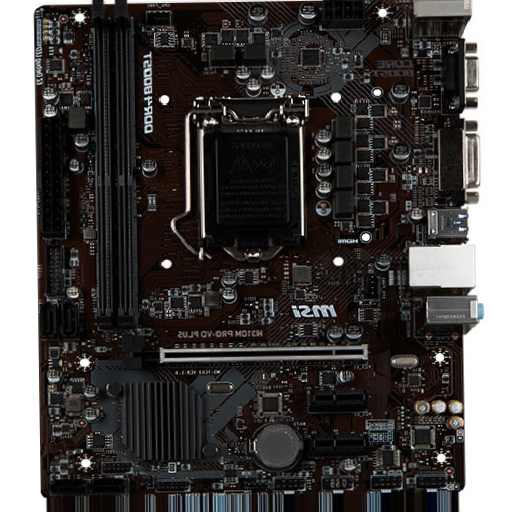CPU: (197, 94, 311, 263)
GPU: (123, 340, 370, 372)
MOTHERBOARD: (40, 4, 469, 498)
RAM: (92, 3, 140, 331)
